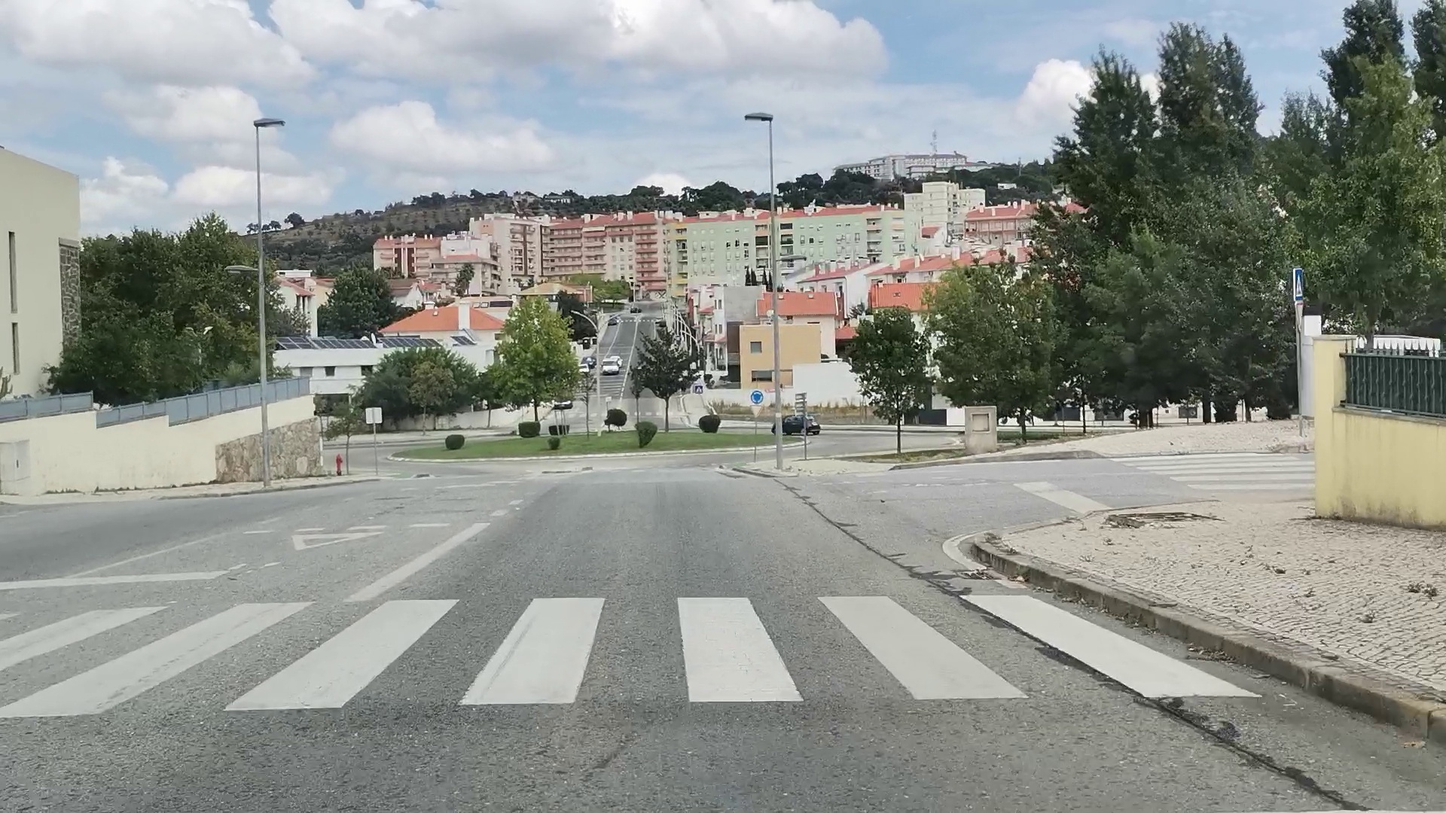Stairs: (0, 591, 1267, 716), (1110, 455, 1313, 496)
